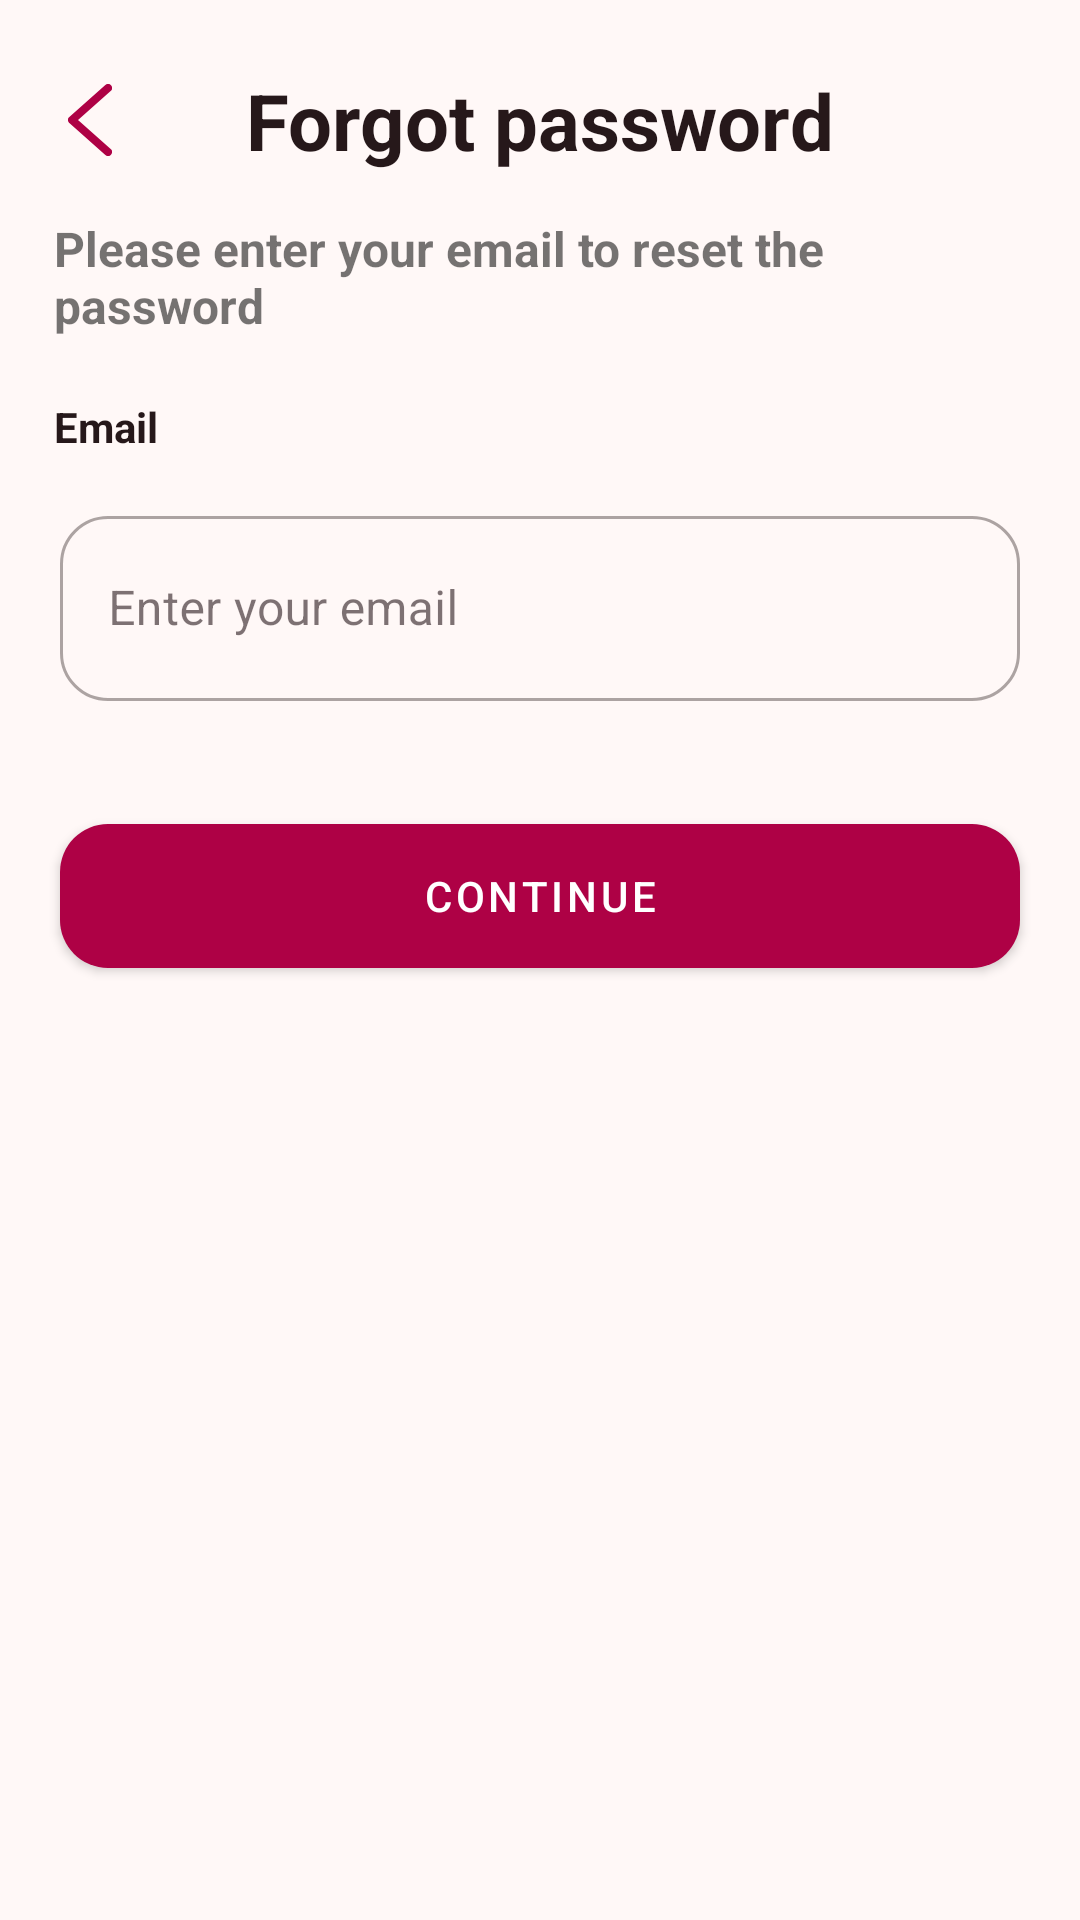

Named icons in this screenshot (1080px×1920px) and their centers, point (x, y):
back: point (90, 120)
